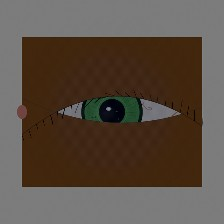pinguecula_lesion: (28, 103, 56, 126)
